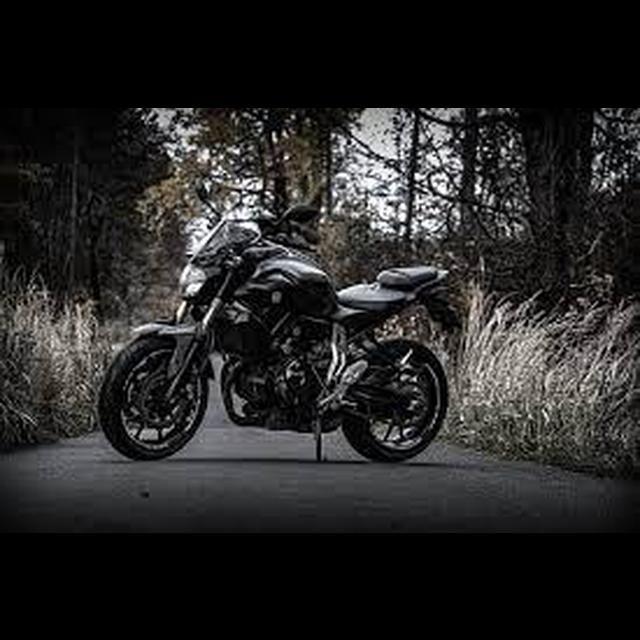motorcycle: (93, 175, 459, 469)
